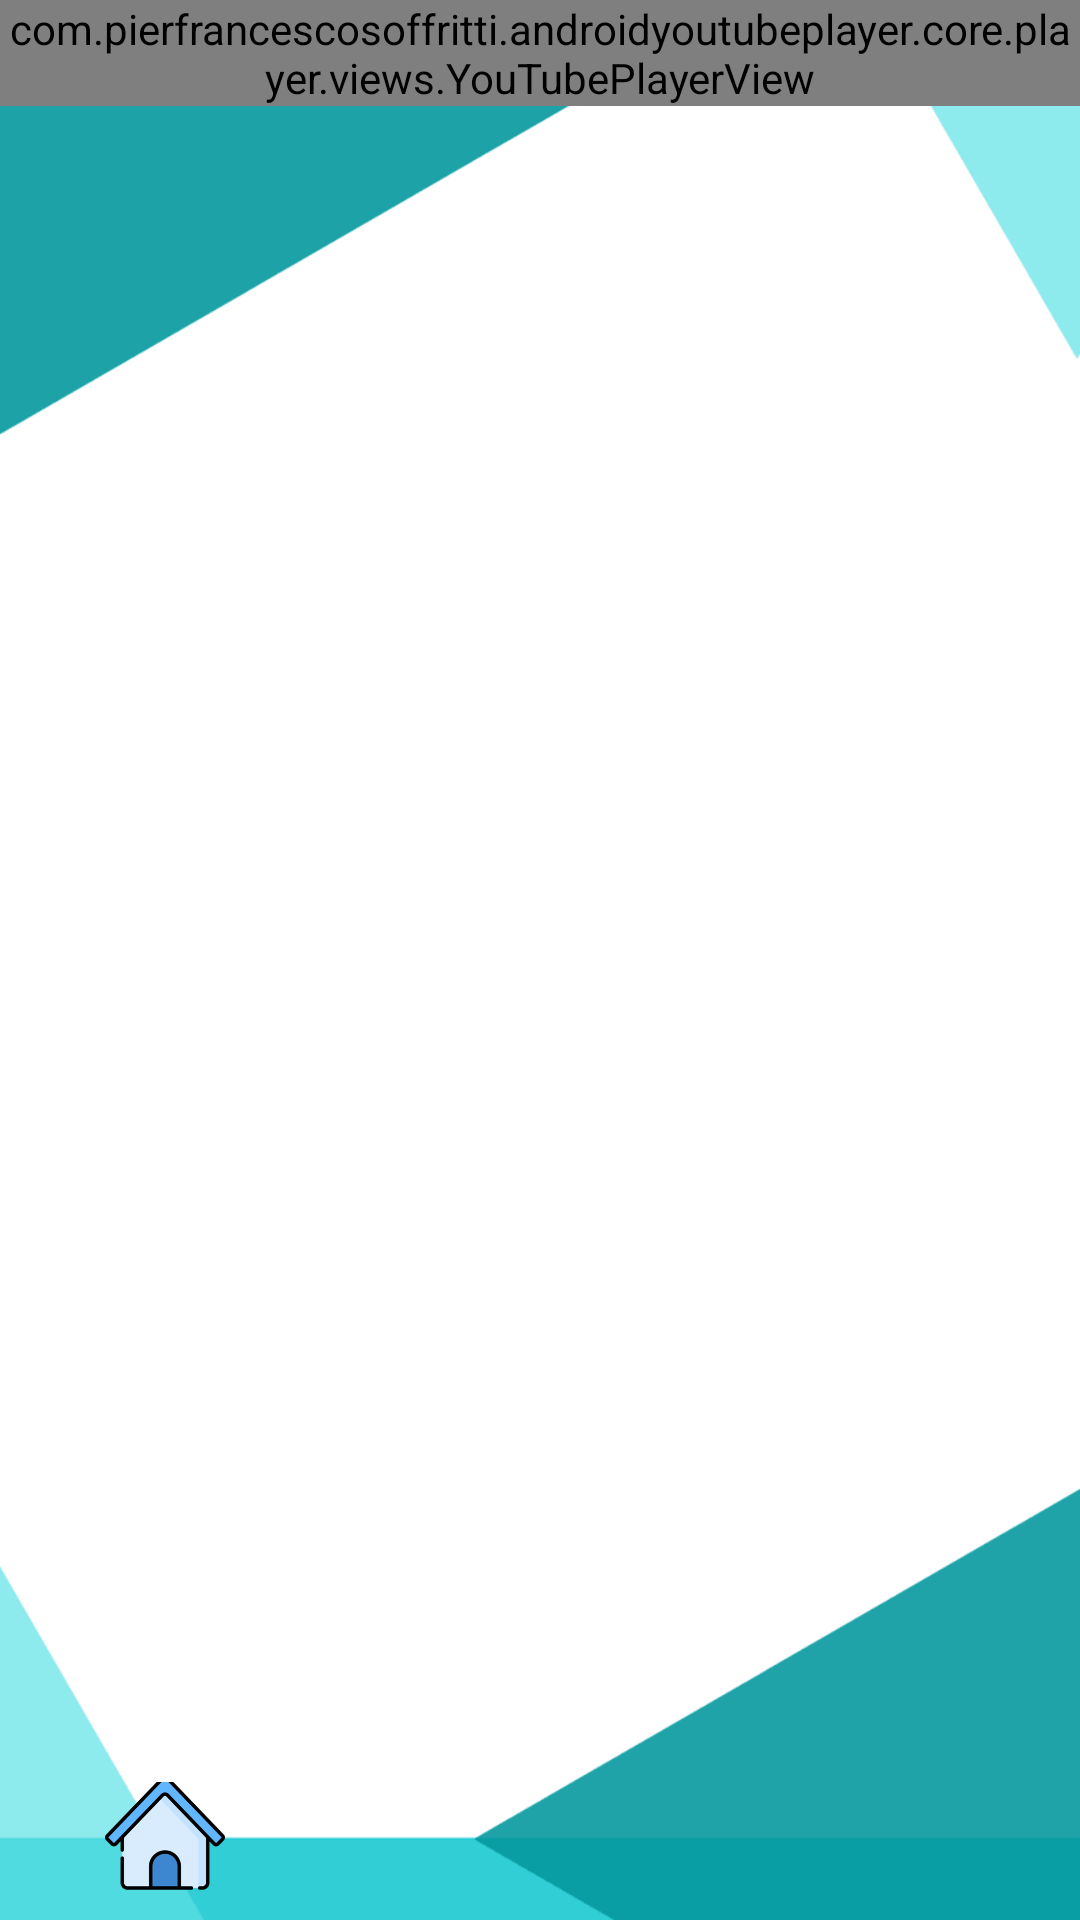

Point at icon controls on the screen. Image size 1080*1920, points as (x=x, y=y).
home: (x=165, y=1837)
